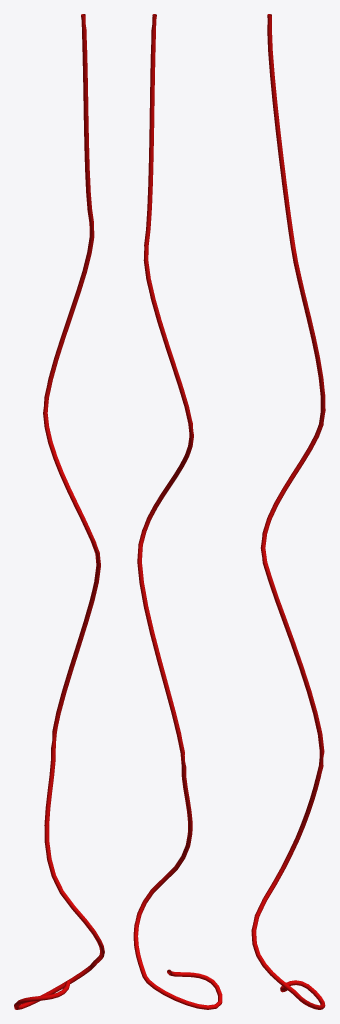
File: Attic_Cable_01_LP_Splines_16.glb
3 renders of one model, left to right at view 1: azimuth 30°, elevation 25°; view 2: azimuth 210°, elevation 25°; view 3: azimuth 270°, elevation 25°, orthographic. The views are drawn at different scales.
Parts seen in each view (by area): view 1: Attic_Cable_01_LP_Splines_16; view 2: Attic_Cable_01_LP_Splines_16; view 3: Attic_Cable_01_LP_Splines_16.
Boxes of the visible parts, x1,y1,x2,y2 form: Attic_Cable_01_LP_Splines_16: (14, 14, 104, 1009); Attic_Cable_01_LP_Splines_16: (133, 14, 222, 1009); Attic_Cable_01_LP_Splines_16: (251, 14, 325, 1009).
Bounding box in the file's own units: 0.1509 × 1.98 × 0.1318.
